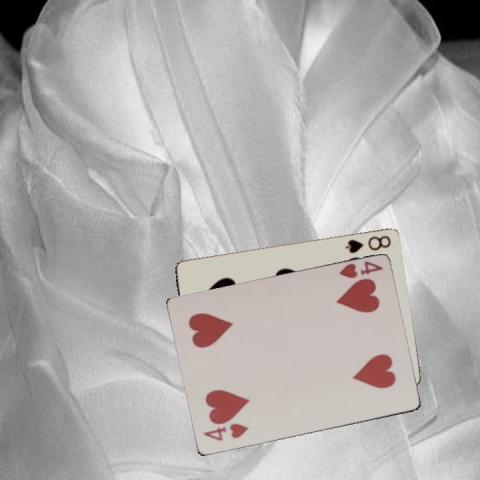4h: (200, 422, 249, 443), (336, 259, 384, 280)
8s: (341, 233, 392, 255)
